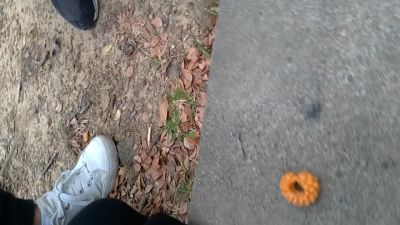eggs: (279, 170, 322, 207)
